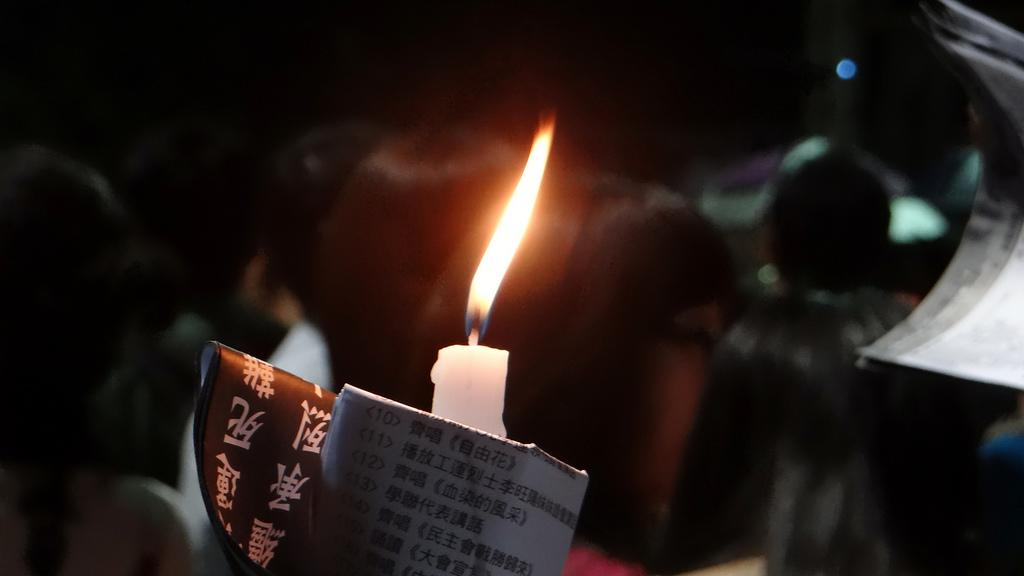fire: (497, 160, 536, 284)
